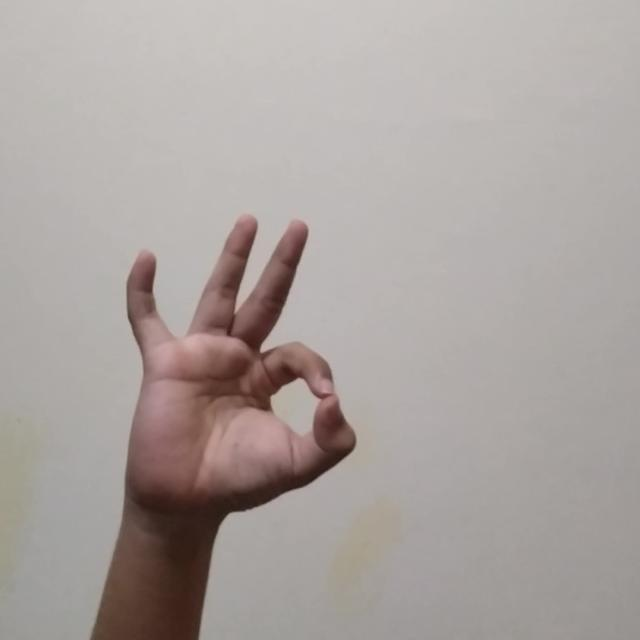O: (88, 183, 386, 516)
